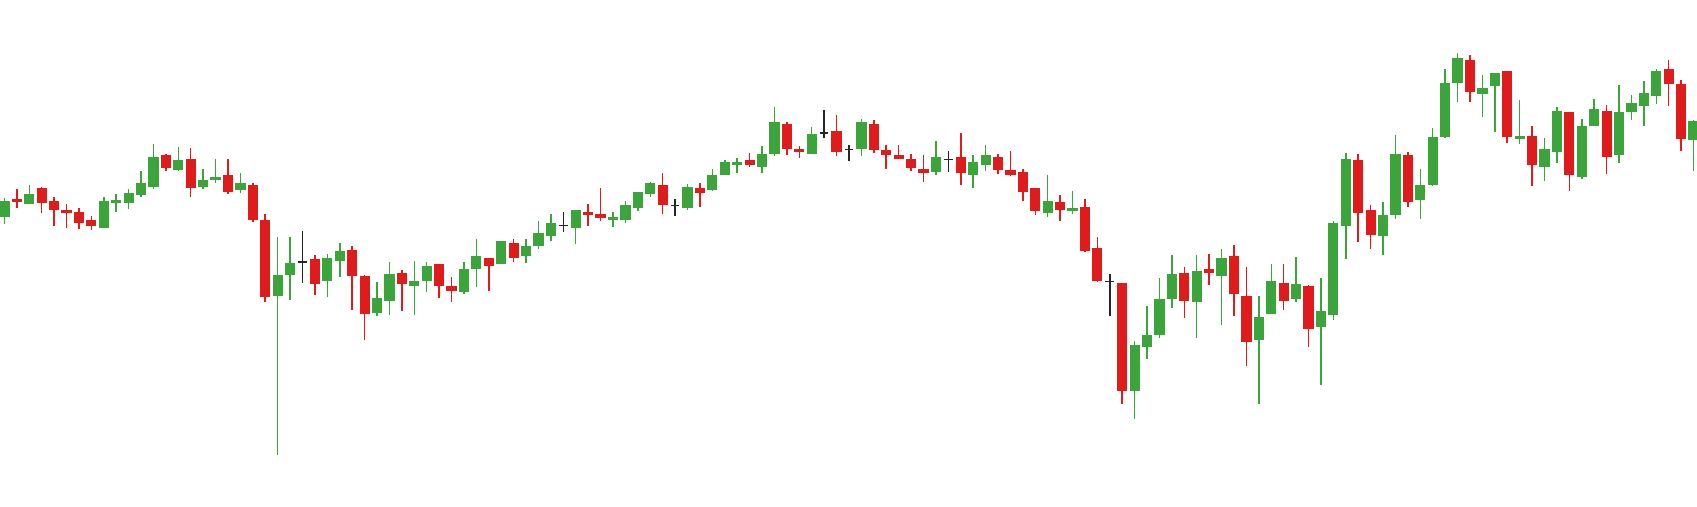buy: (1187, 266, 1266, 405), (1526, 126, 1589, 192)
